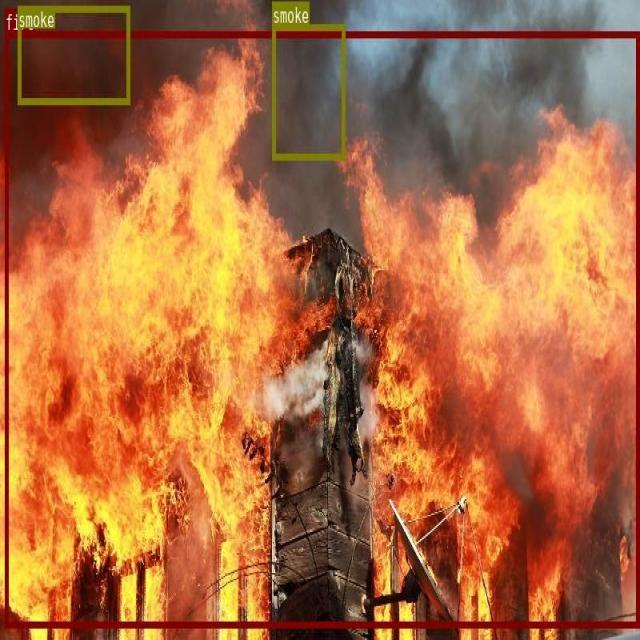fire: (4, 31, 638, 626)
smoke: (17, 6, 129, 103), (272, 24, 345, 159)
